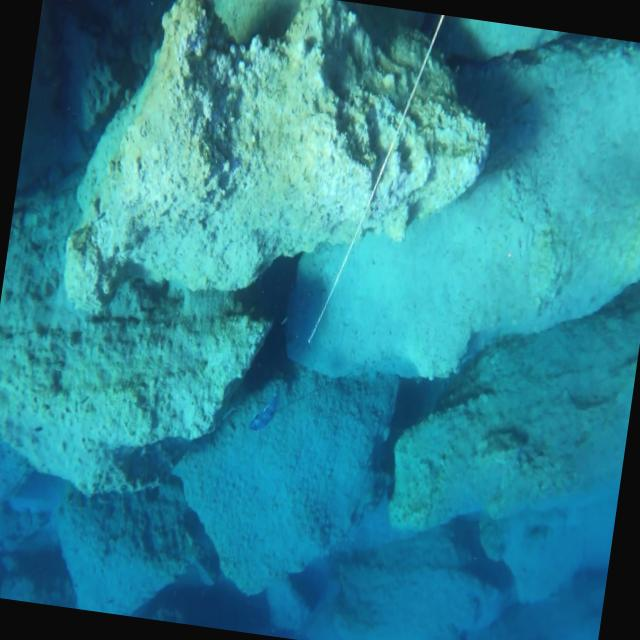Balon Baligi: (247, 388, 277, 433)
